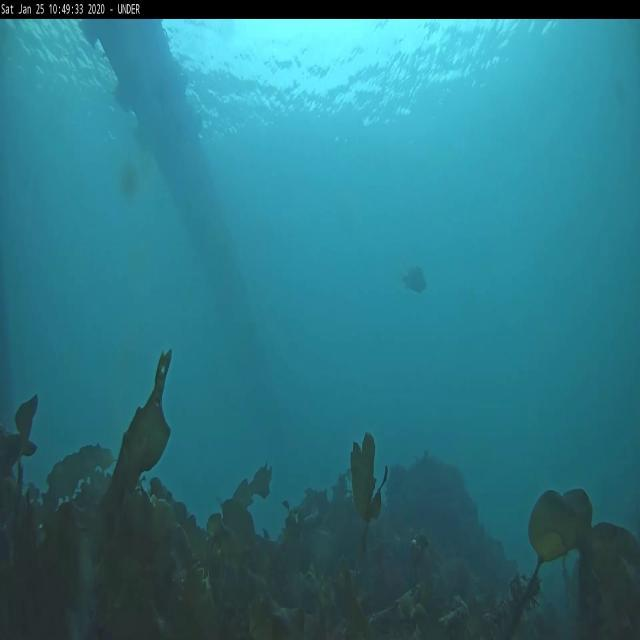fish: (404, 262, 428, 294)
